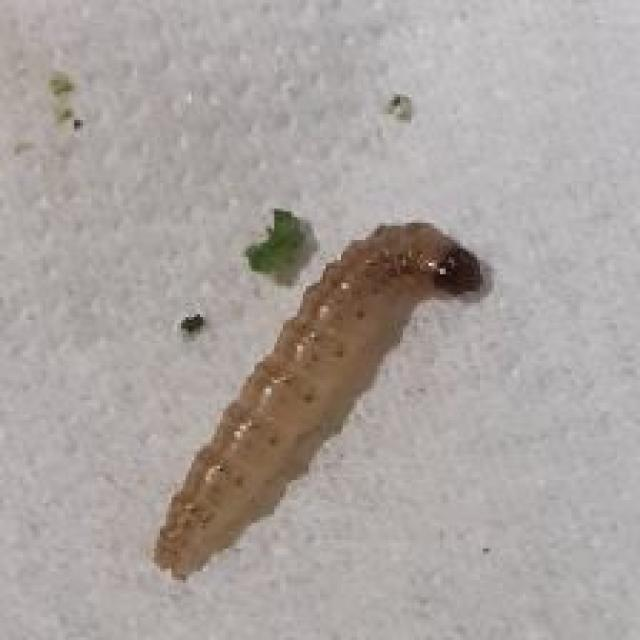white mucus: (131, 217, 488, 587)
